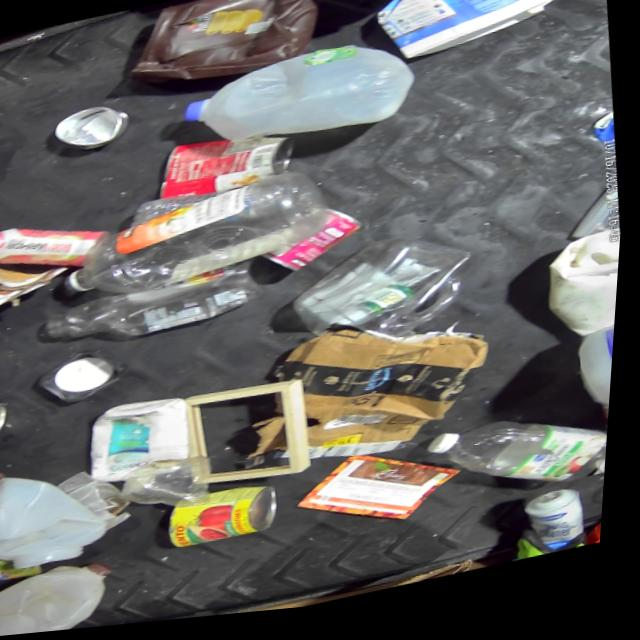can: (421, 408, 616, 517), (156, 124, 304, 209), (167, 484, 290, 558), (259, 206, 369, 283), (49, 98, 130, 162), (497, 0, 600, 16), (0, 396, 23, 445)
milk_jug: (176, 37, 419, 170), (0, 463, 119, 578), (0, 556, 128, 638), (542, 234, 625, 357), (580, 336, 620, 440)
non_white_jug: (121, 0, 334, 100)
plastic_bottle: (66, 171, 336, 304), (35, 261, 264, 360), (0, 210, 111, 284)
